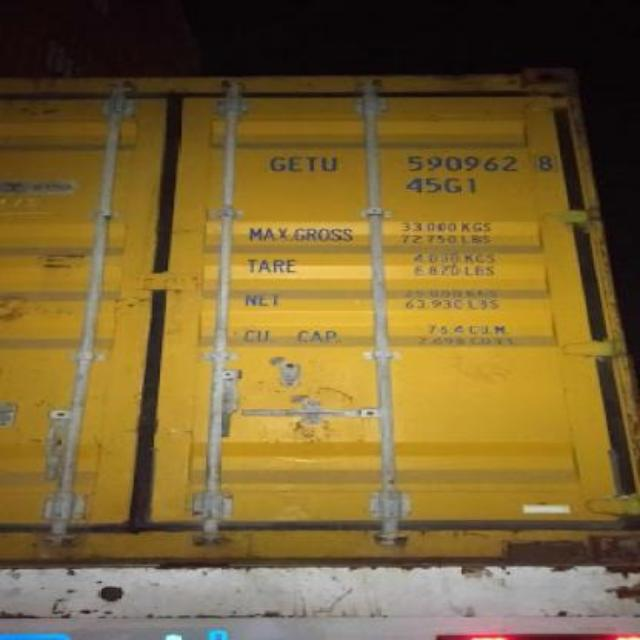0: (444, 150, 462, 174)
2: (500, 149, 520, 175)
5: (404, 151, 424, 175)
6: (480, 148, 500, 176)
8: (534, 148, 558, 176)
9: (422, 150, 444, 174), (462, 148, 478, 174)
E: (284, 152, 304, 176)
G: (270, 152, 286, 175)
T: (302, 152, 320, 178)
U: (320, 150, 344, 180)
